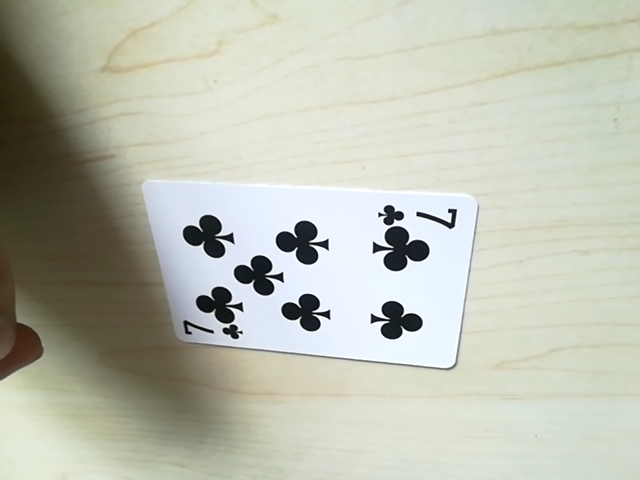mh 7: (175, 316, 238, 347), (388, 199, 458, 225)
